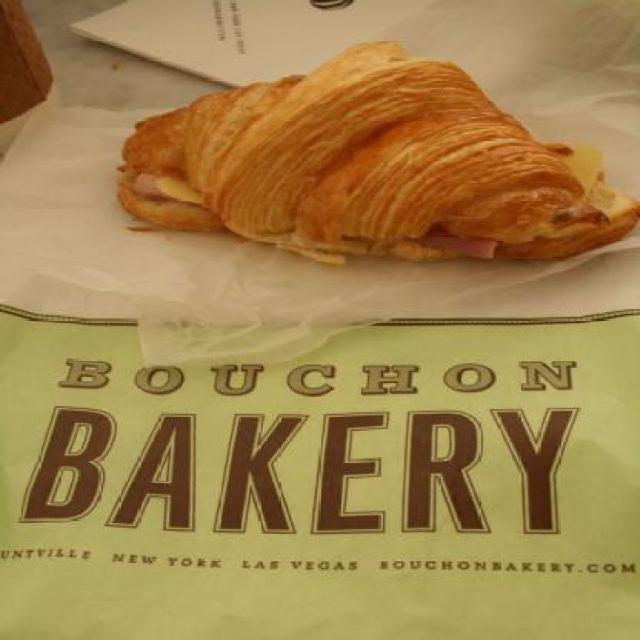Croissant: (106, 38, 637, 266)
